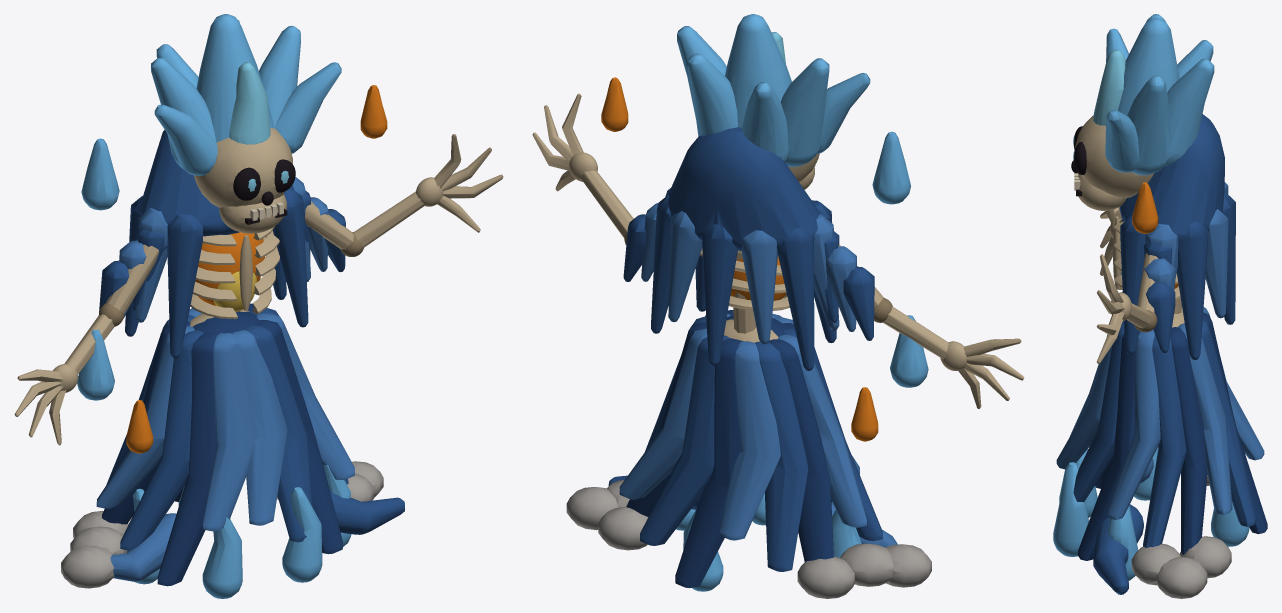
File: ignispectre.glb
3 renders of one model, left to right at view 1: azimuth 30°, elevation 25°; view 2: azimuth 150°, elevation 25°; view 3: azimuth 270°, elevation 25°, orthographic. The views are drawn at different scales.
Visible parts, largest first — view 1: creature; view 2: creature; view 3: creature.
Boxes of the visible parts, x1=… form: creature: x1=14, y1=14, x2=503, y2=598; creature: x1=532, y1=14, x2=1024, y2=598; creature: x1=1053, y1=14, x2=1267, y2=598.
Bounding box in the file's own units: 0.9413 × 1 × 0.3737.
